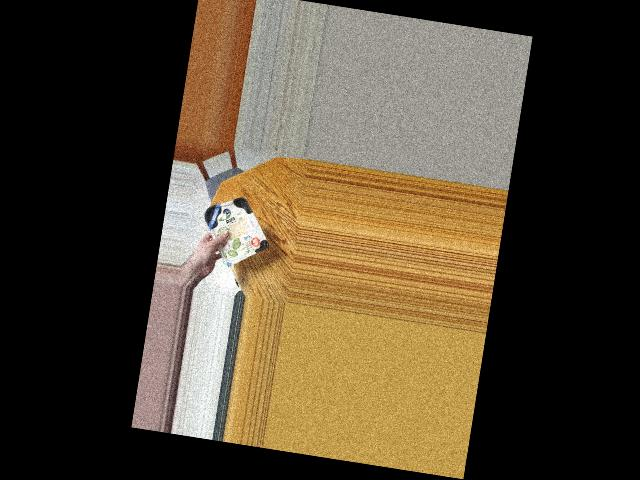cheese: (194, 194, 270, 260)
